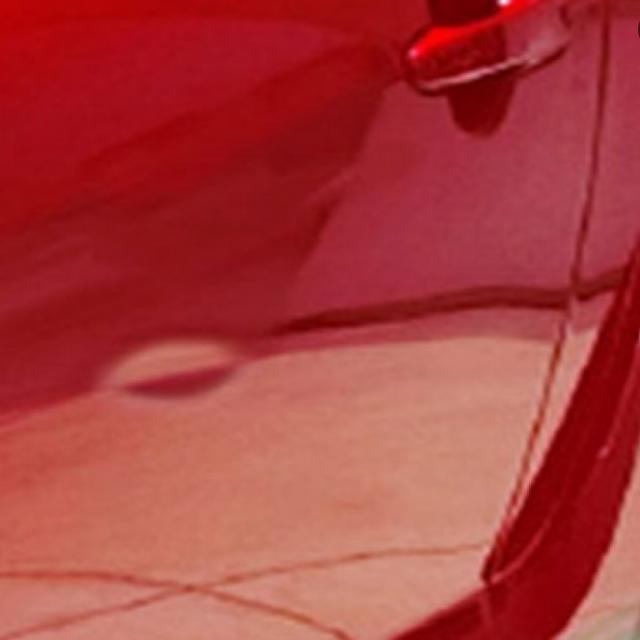dents: (98, 328, 274, 416)
